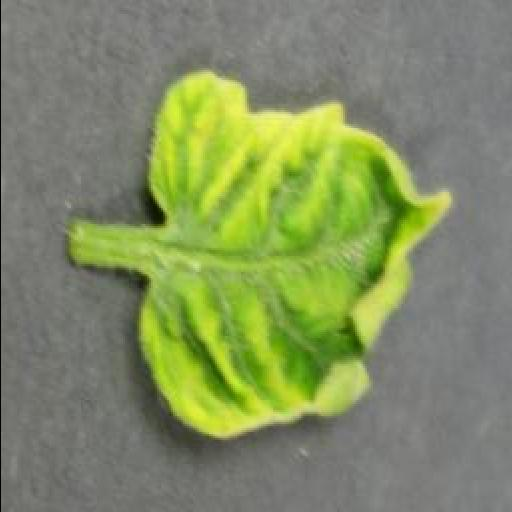disease_tomato: (138, 74, 452, 442)
